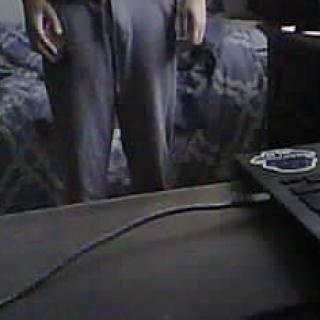Gray Sweatpants: (38, 0, 192, 203)
